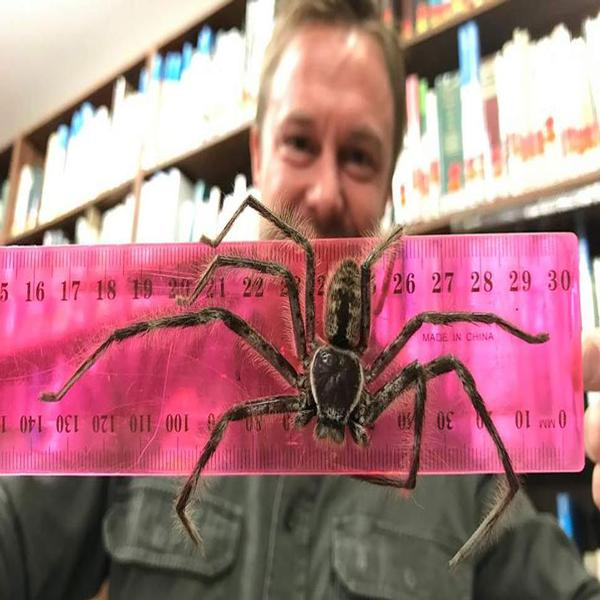Huntsman Spider: (43, 199, 547, 562)
